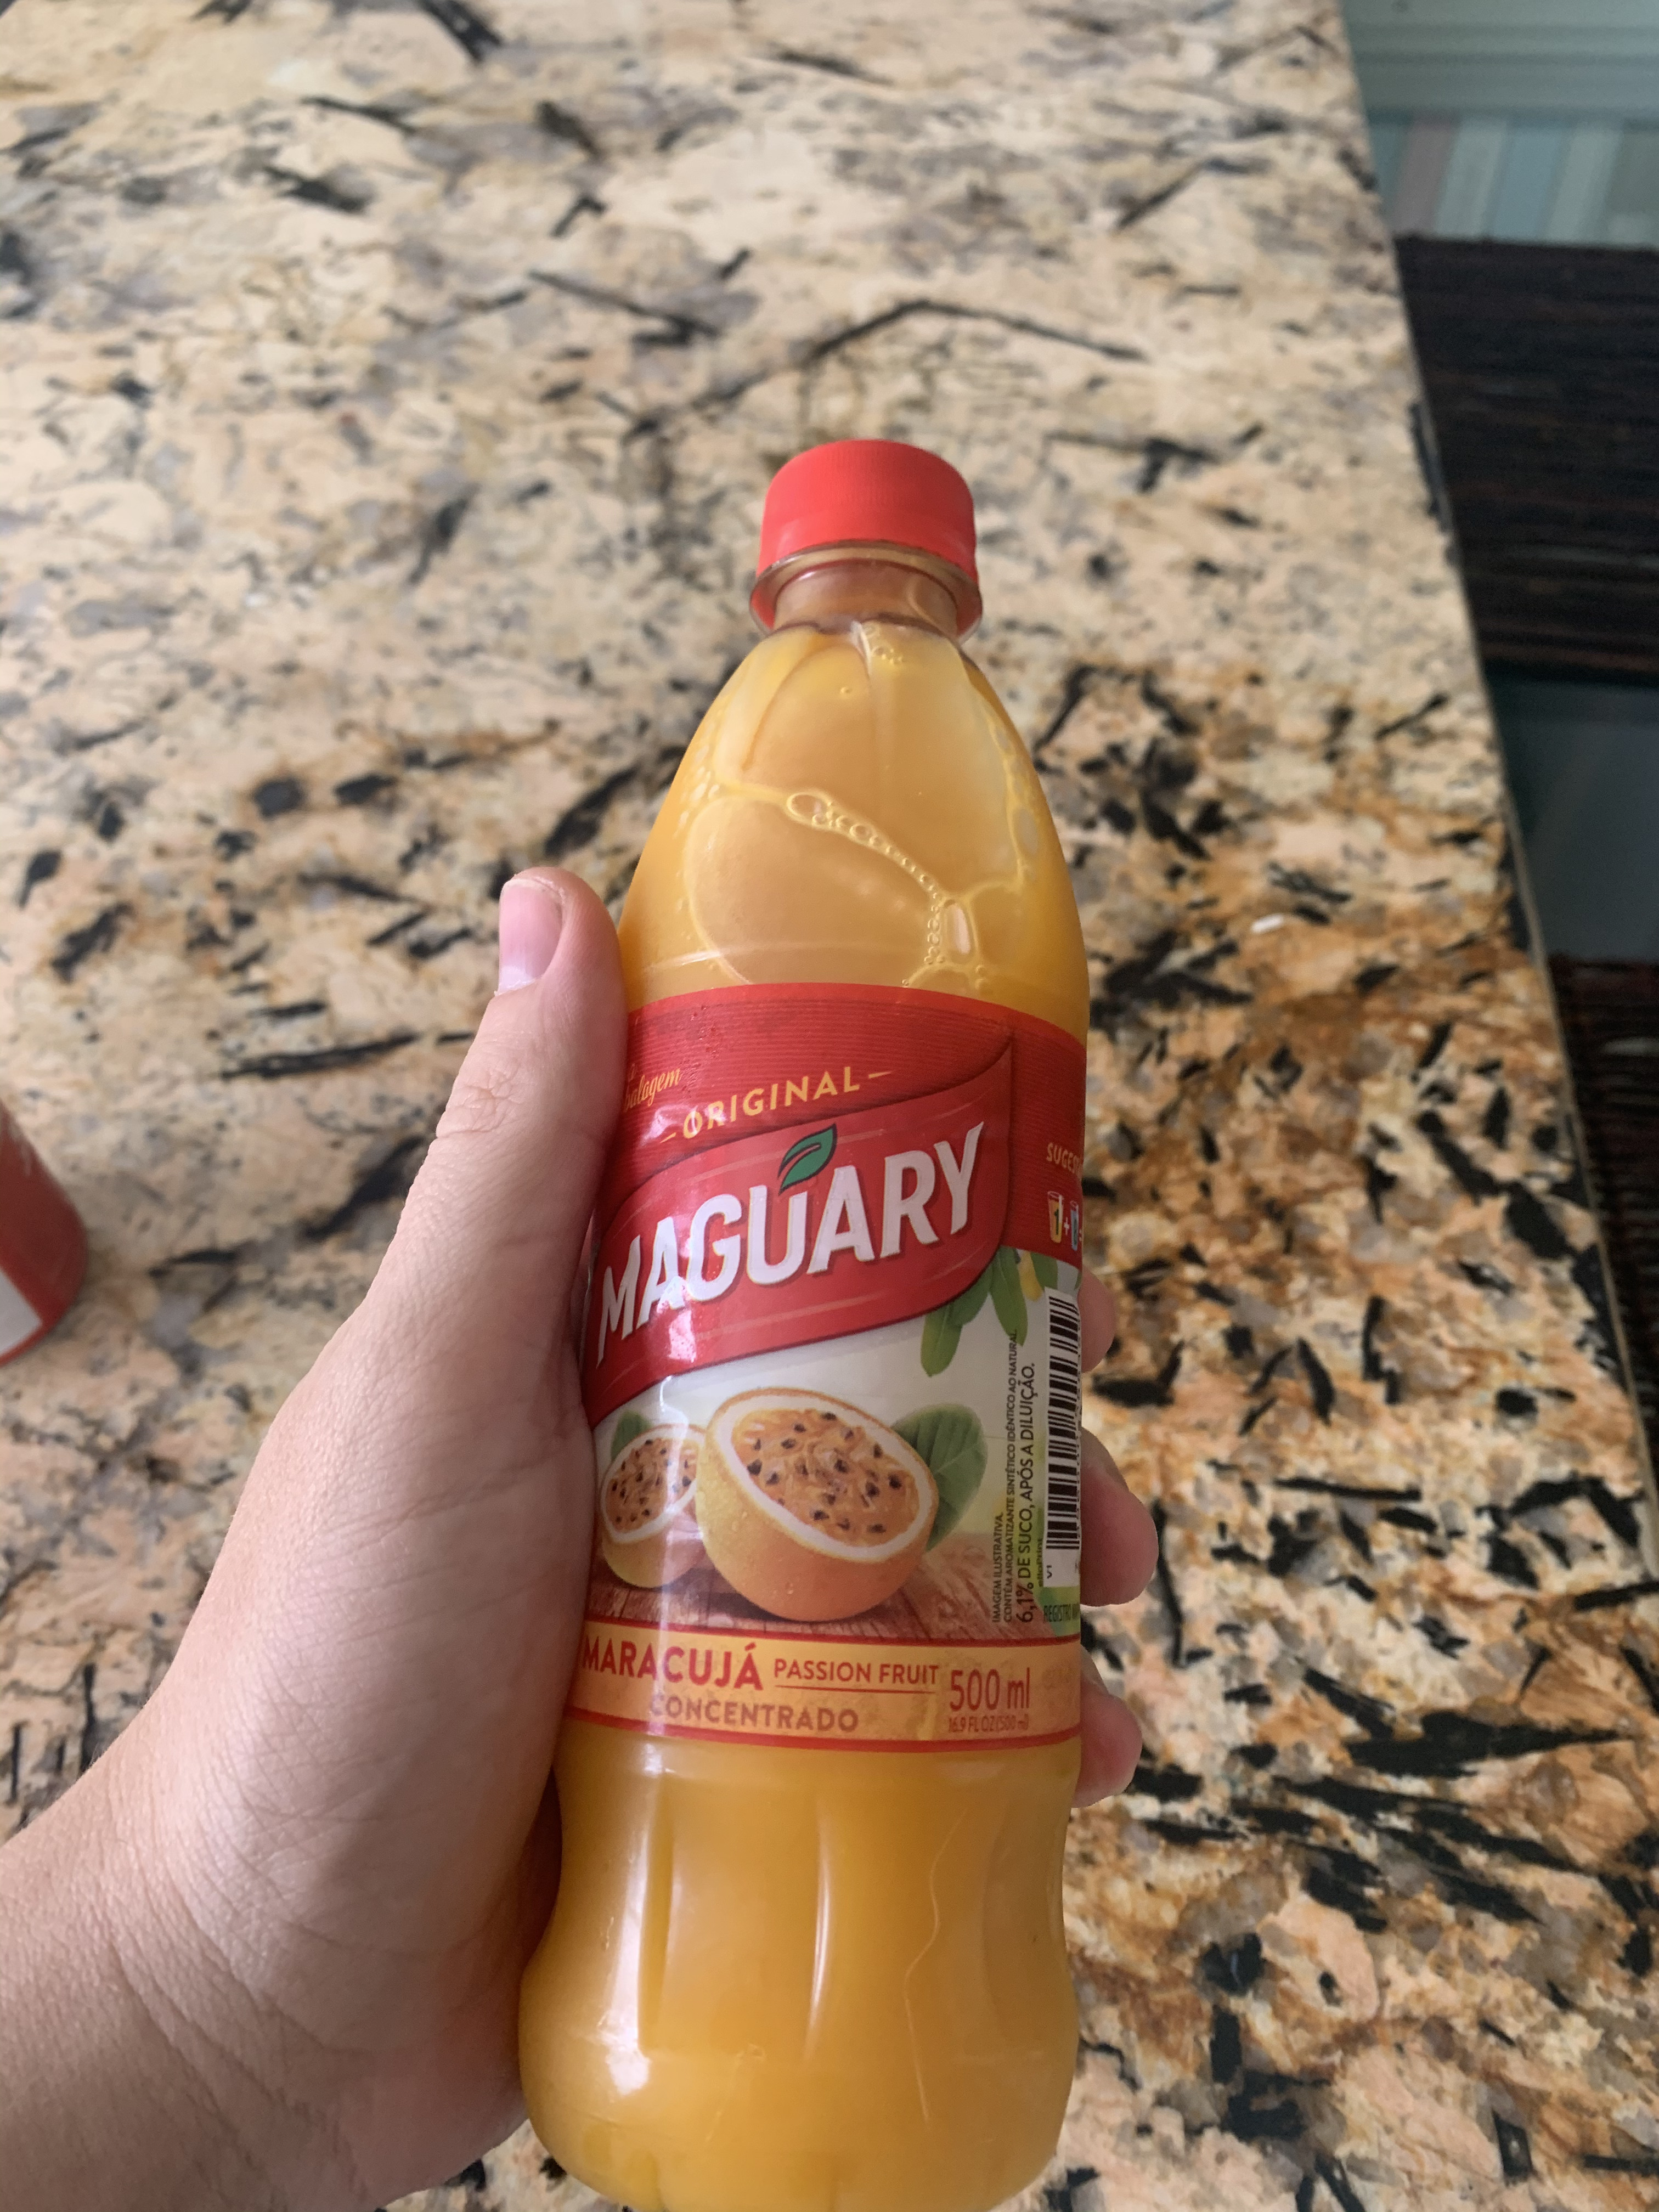maguary: (537, 401, 1148, 2212)
